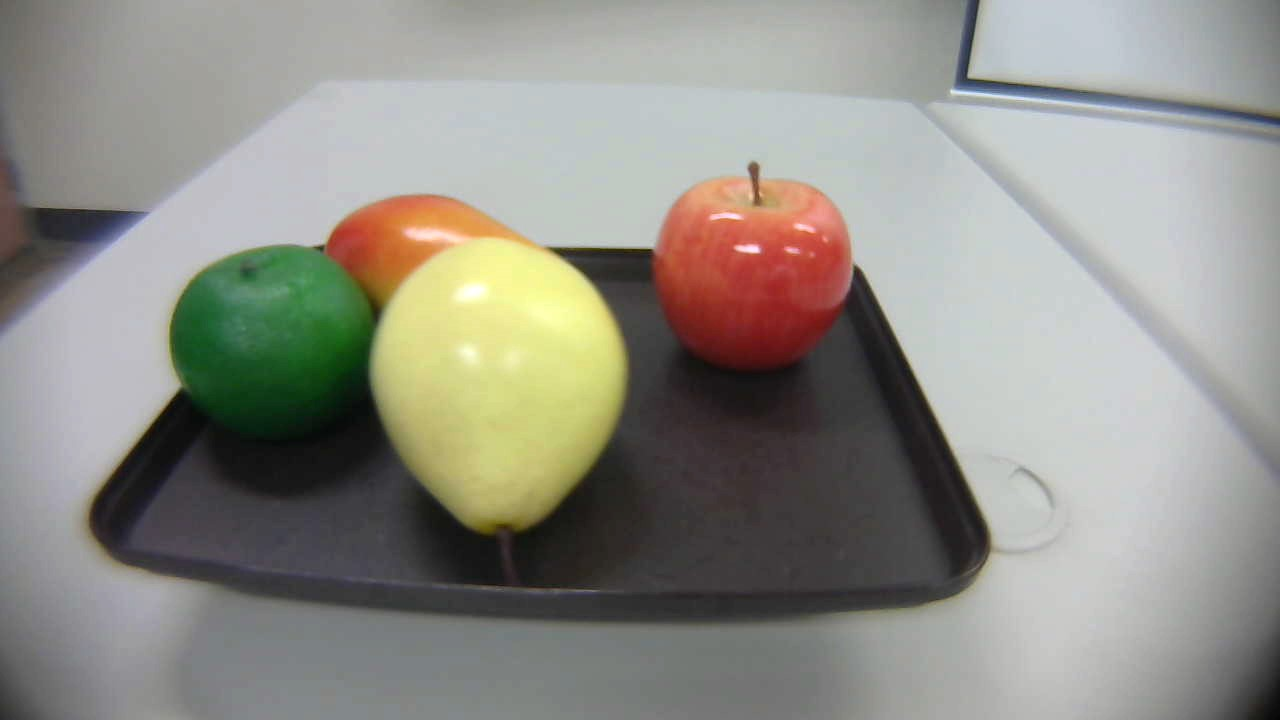green orange: (168, 244, 390, 441)
red apple: (645, 163, 867, 384)
red mango: (313, 184, 583, 329)
western pear: (367, 238, 628, 581)
